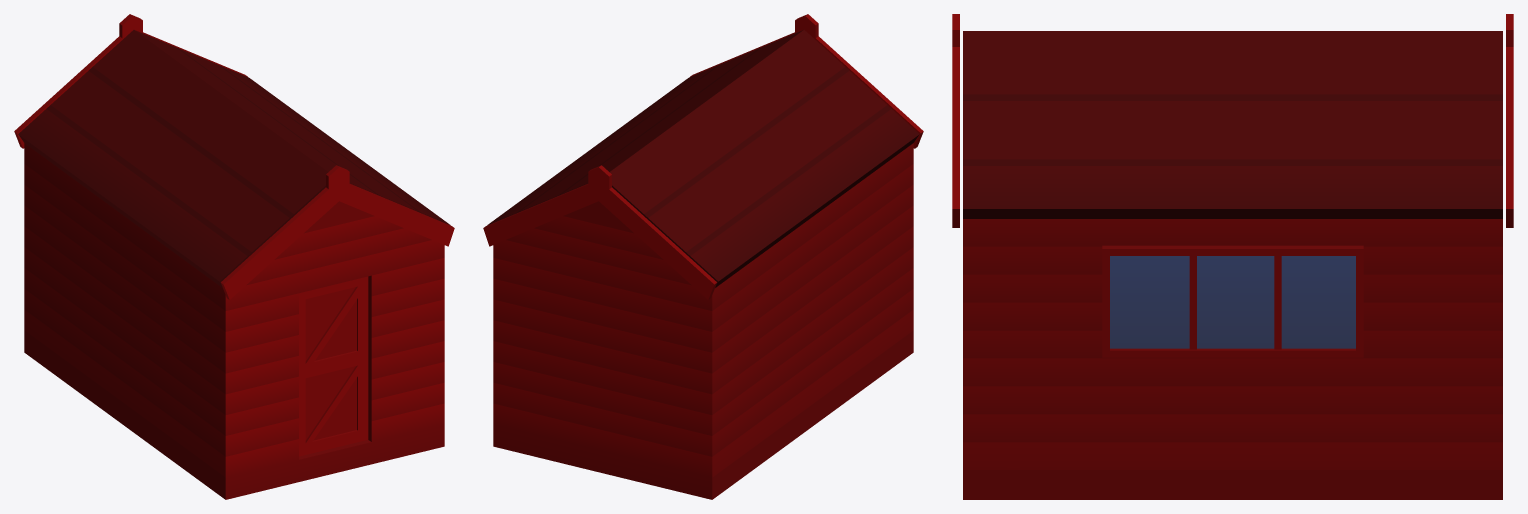
File: buildings-farm-gardenshed_v1.fbx
3 views of the same model, side by side, from view 1: azimuth 30°, elevation 25°; view 2: azimuth 150°, elevation 25°; view 3: azimuth 270°, elevation 25° (orthographic). The views are drawn at different scales.
Visible parts, largest first — view 1: GardenShed_base; view 2: GardenShed_base; view 3: GardenShed_base, GardenShed_windowRefl.
Boxes of the visible parts, x1,y1,x2,y2 form: GardenShed_base: (14,14,454,499); GardenShed_base: (483,14,923,499); GardenShed_base: (952,14,1513,499); GardenShed_windowRefl: (1110,256,1355,348).
Bounding box in the file's own units: 4.37 × 5.58 × 6.85.
